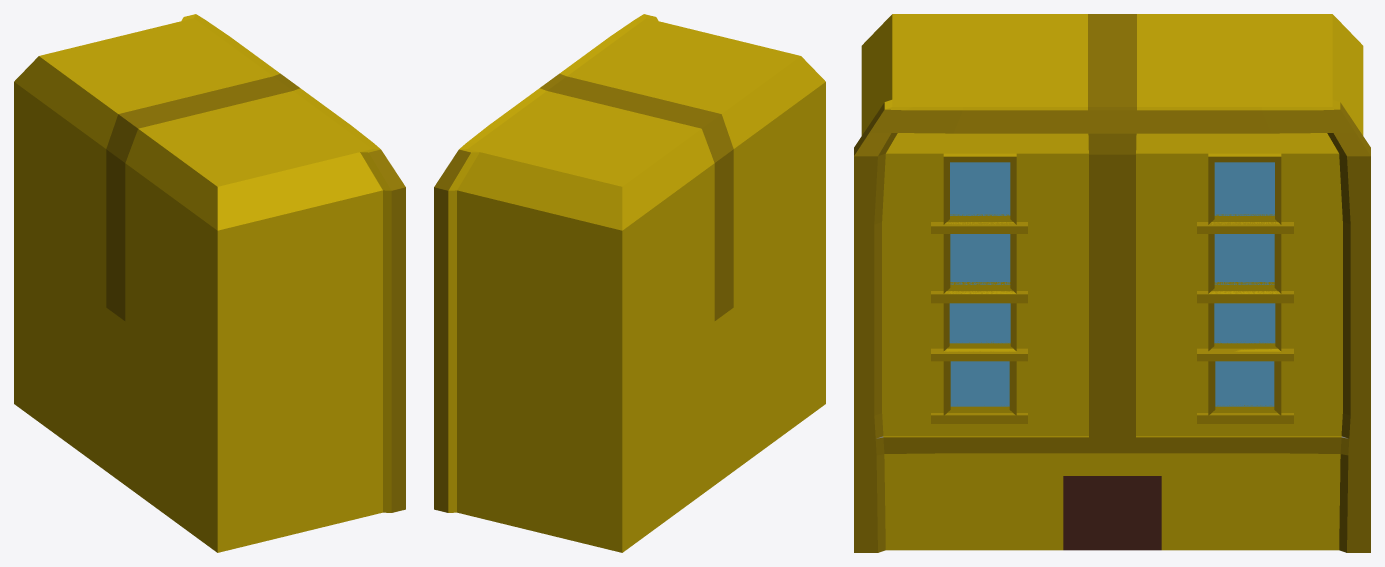
File: yellow short building.fbx
3 renders of one model, left to right at view 1: azimuth 30°, elevation 25°; view 2: azimuth 150°, elevation 25°; view 3: azimuth 270°, elevation 25°, orthographic. The views are drawn at different scales.
Parts seen in each view (by area): view 1: Cube; view 2: Cube; view 3: Cube.
Boxes of the visible parts, x1=… form: Cube: x1=14, y1=14, x2=405, y2=552; Cube: x1=434, y1=14, x2=825, y2=552; Cube: x1=854, y1=14, x2=1370, y2=552.
Bounding box in the file's own units: 3724 × 6291 × 6744.
